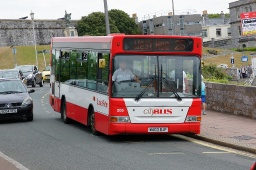bus: (49, 34, 204, 138)
car: (1, 78, 37, 122), (13, 63, 43, 89), (1, 68, 27, 86)
